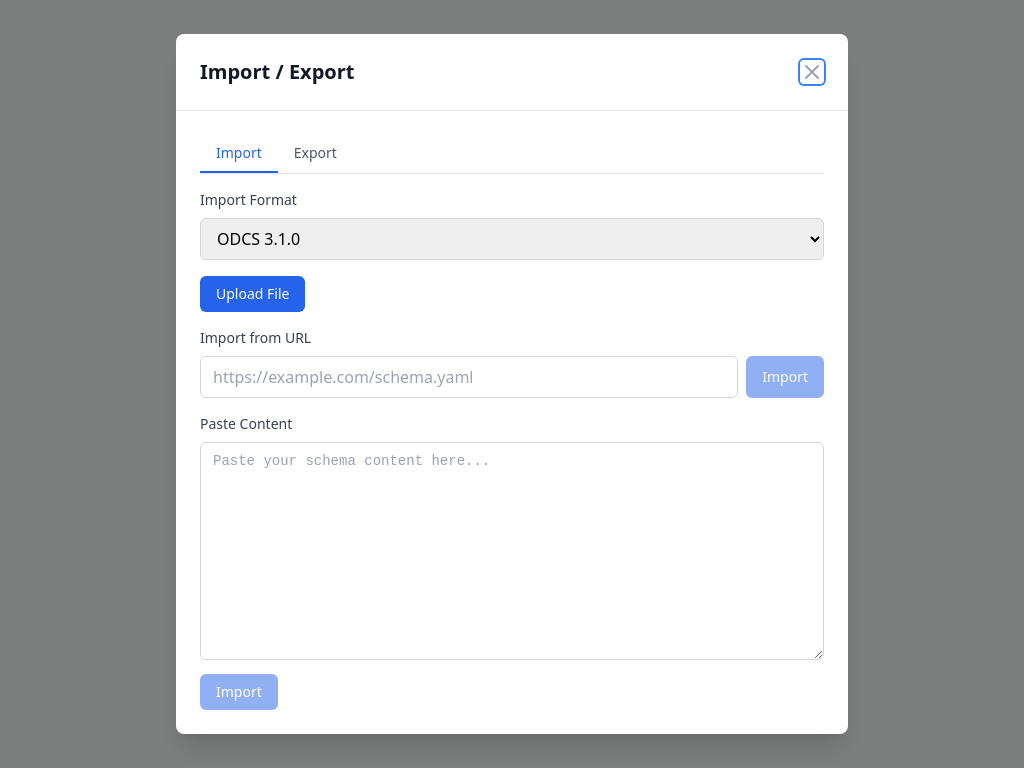
Test case: ImportExportDialog › should switch to export tab
The width and height of the screenshot is (1024, 768).
Click the button "Export". click: {"x": 315, "y": 154}
box: [278,135,353,173]
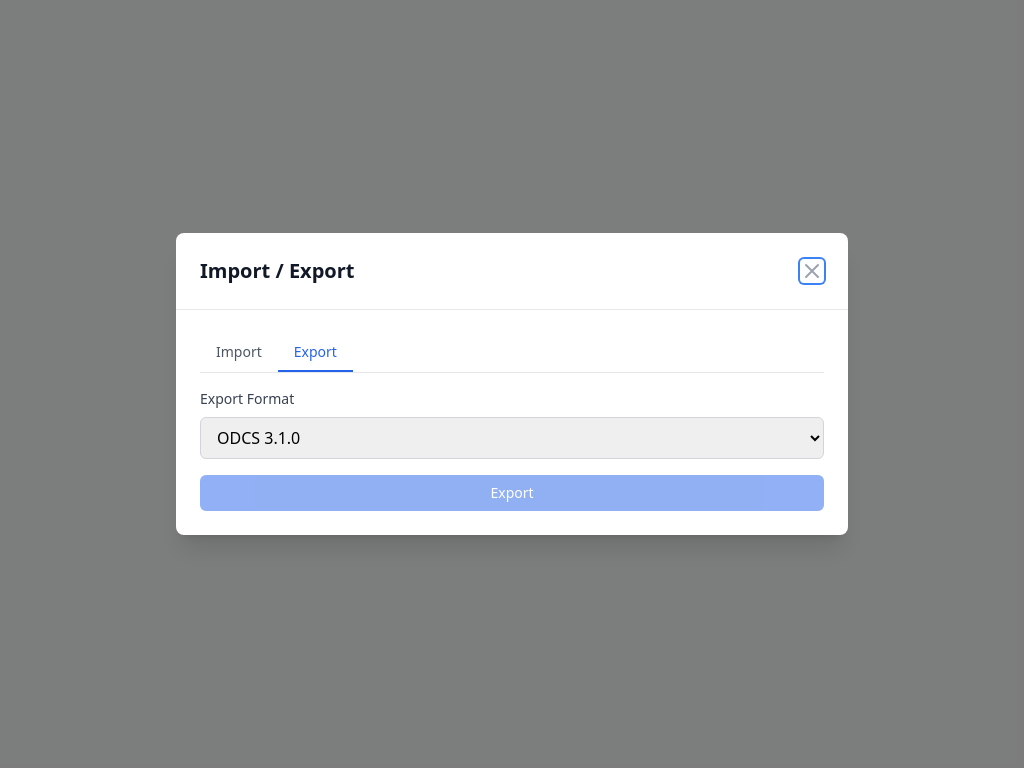
Now the text "Export Format" is shown, box [200,389,294,408]
